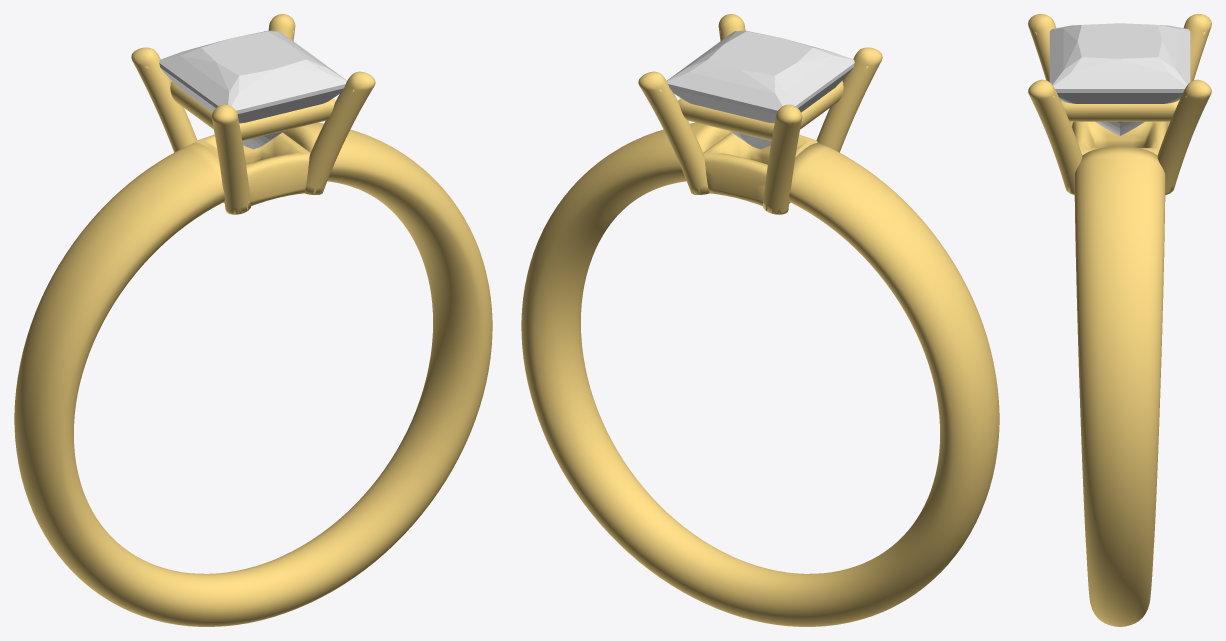
File: diamond-princess-yellowgold-4prong-taperedband-solitaire.glb
The picture shows the model from 3 angles, left to right: view 1: azimuth 30°, elevation 25°; view 2: azimuth 150°, elevation 25°; view 3: azimuth 270°, elevation 25°; orthographic projection.
Parts seen in each view (by area): view 1: metal, stone; view 2: metal, stone; view 3: metal, stone.
Boxes of the visible parts, box(x1,y1,x2,y2) form: metal: box(14, 14, 492, 626); stone: box(159, 30, 346, 149); metal: box(521, 14, 999, 626); stone: box(667, 30, 854, 149); metal: box(1028, 14, 1211, 626); stone: box(1049, 23, 1190, 135).
Bounding box in the file's own units: 20.5 × 23.85 × 7.08.
